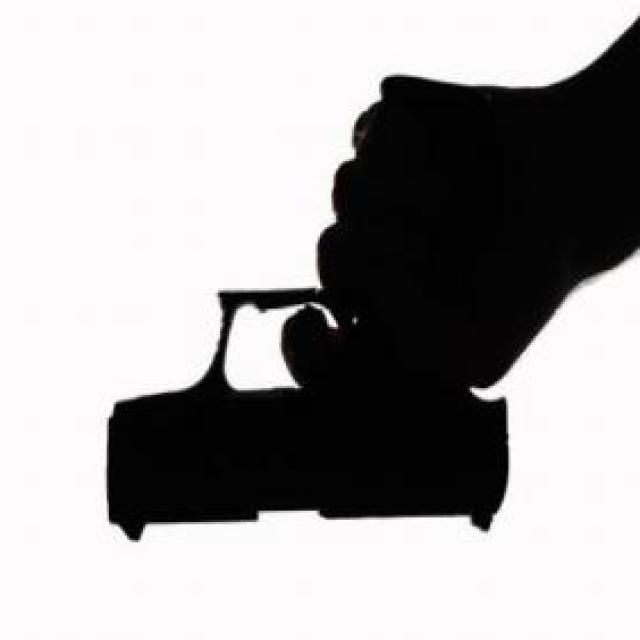pistol: (107, 76, 516, 542)
